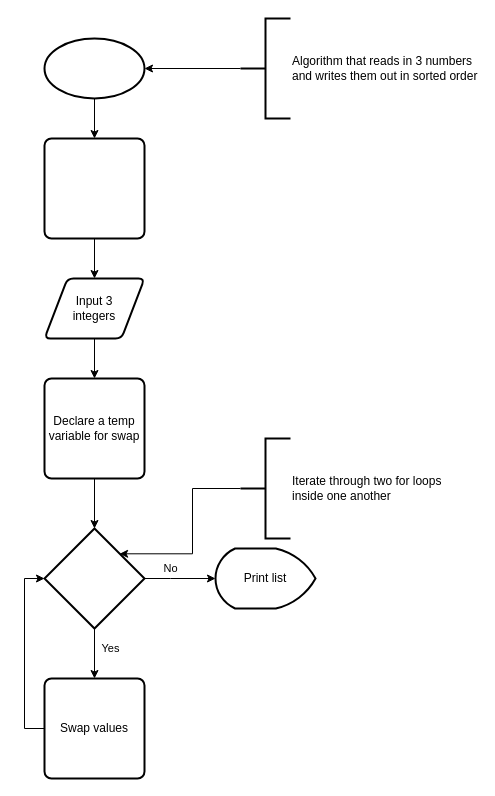
The diagram is 495 pixels wide and 796 high, and some of its shapes have lost their labels. The box of each missing label's shape, as (x1, y1, x2, y2) in pixels:
Declare an arrayList: (43, 137, 145, 239)
Is int a > int b: (43, 527, 145, 629)
Start: (43, 37, 145, 99)
